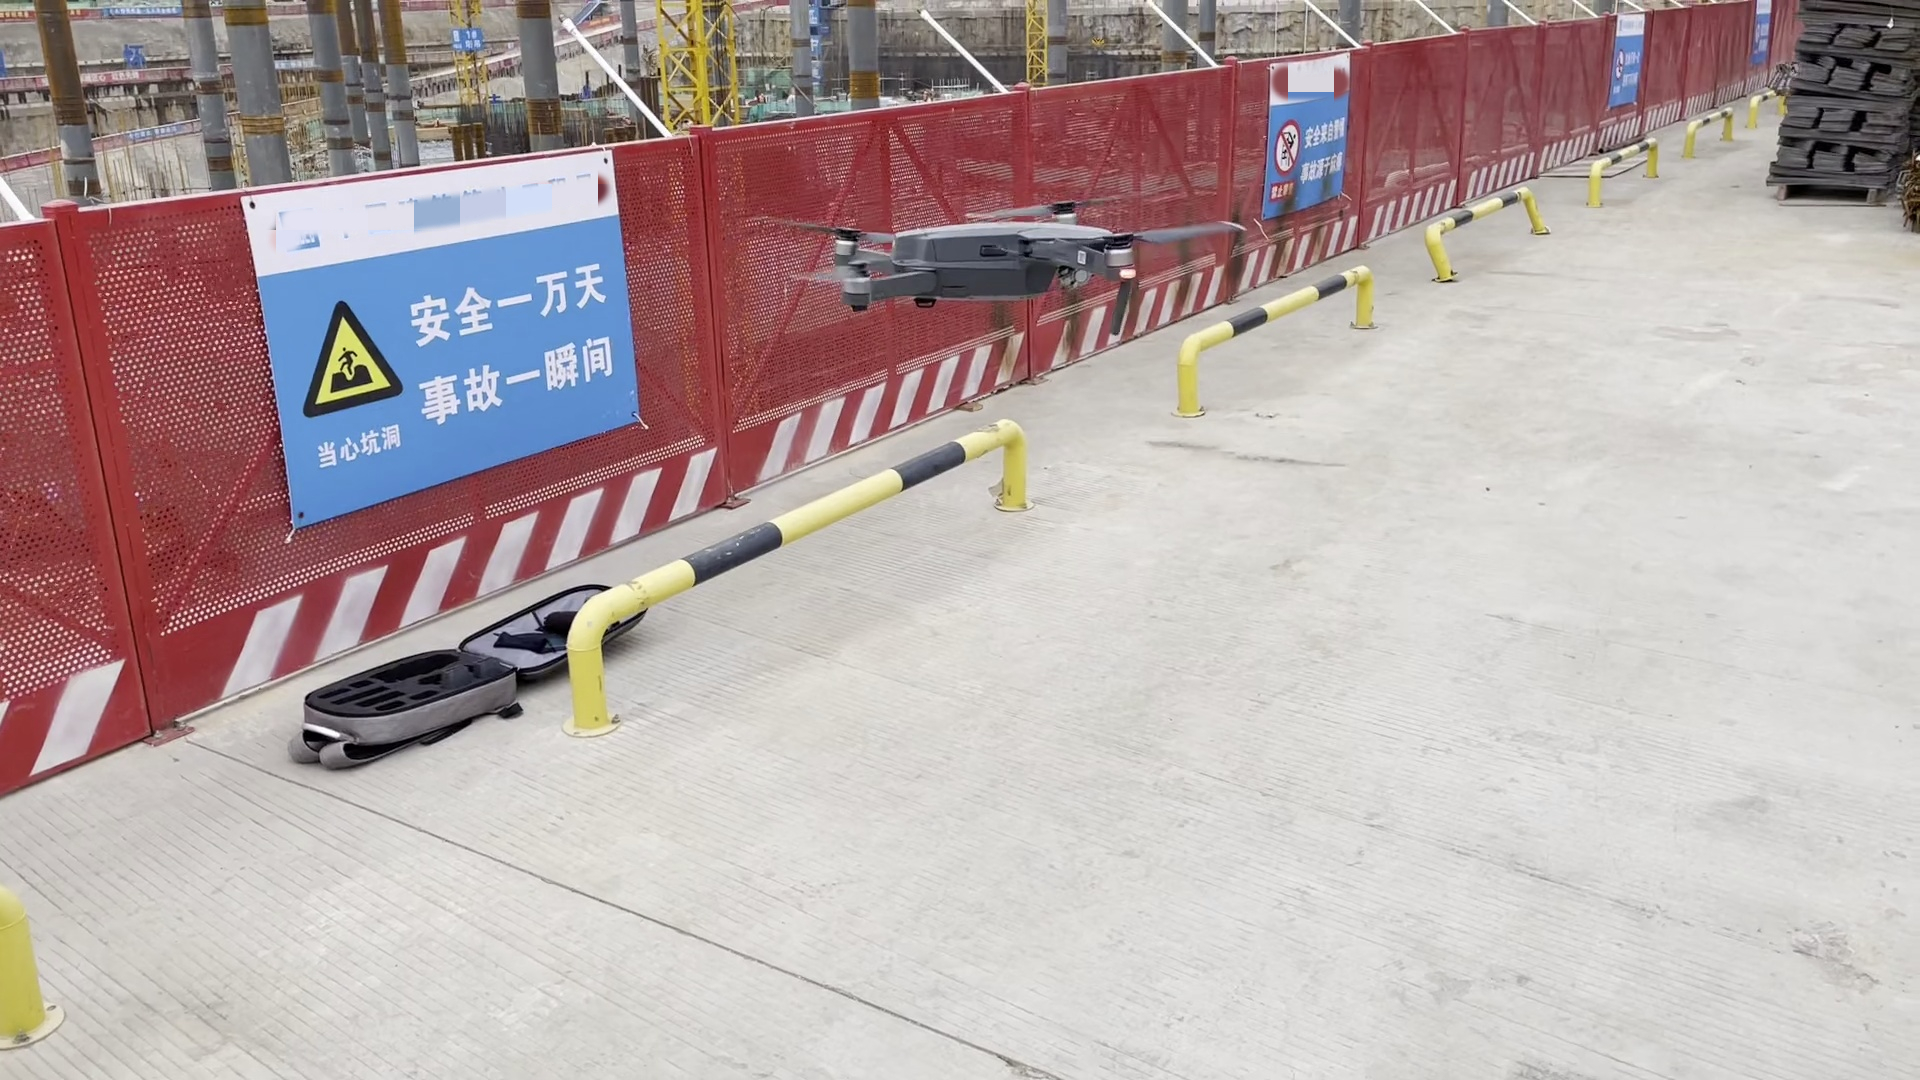fence: (1, 51, 1575, 825)
slogan: (255, 200, 626, 454), (1275, 103, 1352, 196), (80, 71, 150, 88), (105, 5, 185, 16), (129, 127, 185, 138), (462, 29, 487, 51)
